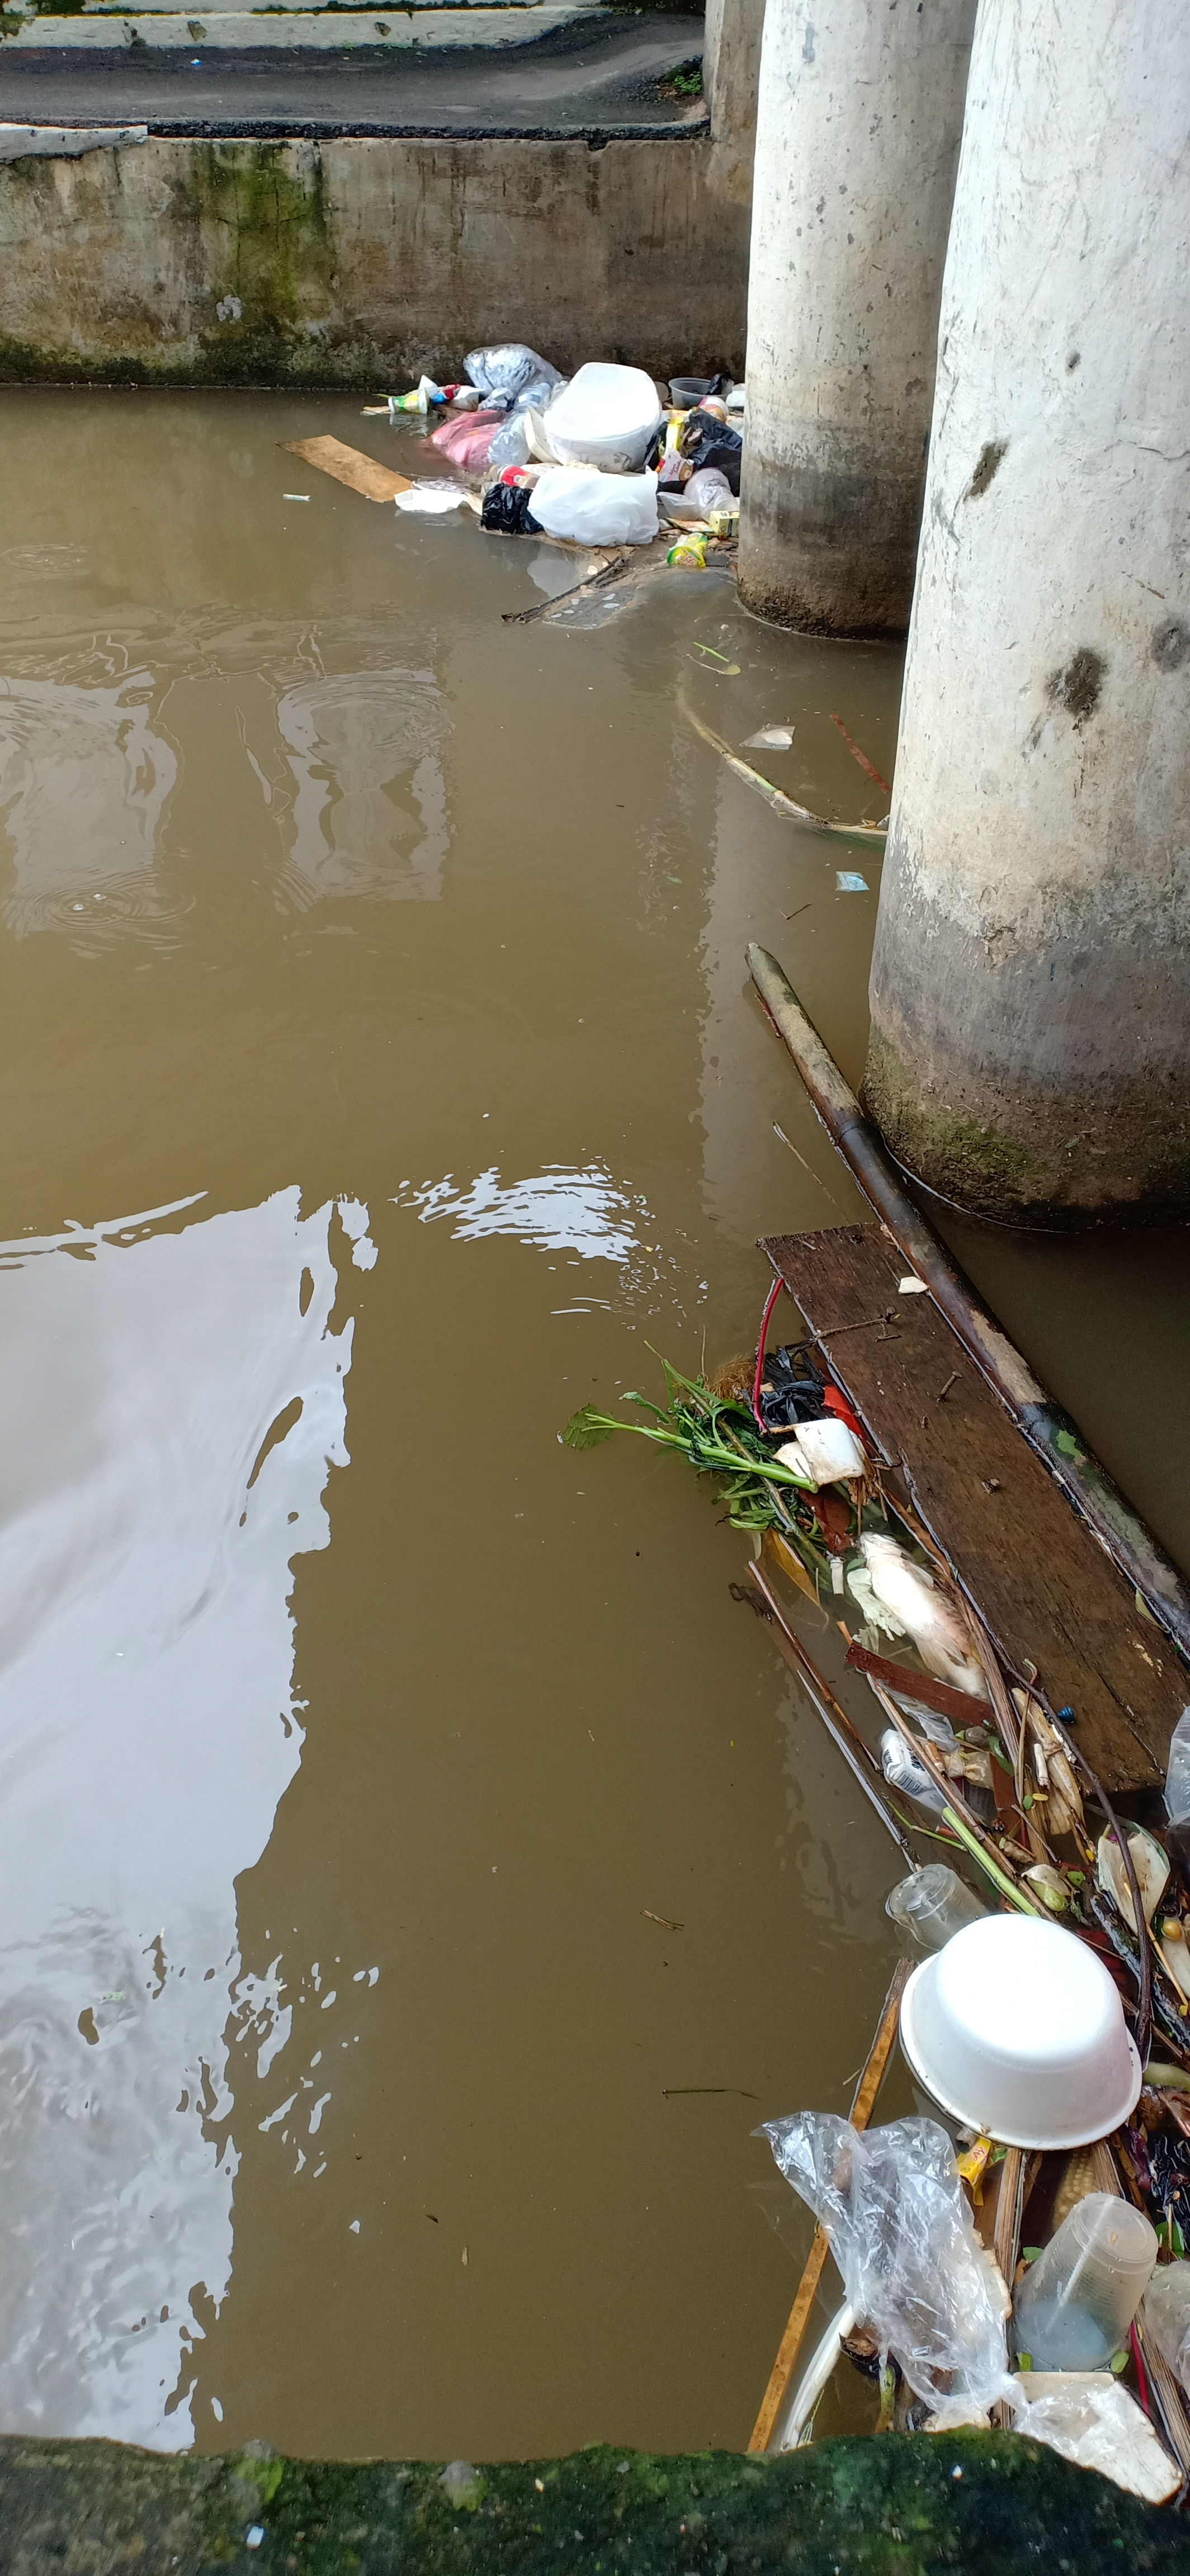Plastic Bottle: (1144, 2259, 1190, 2403), (487, 381, 551, 465), (488, 463, 539, 488)
